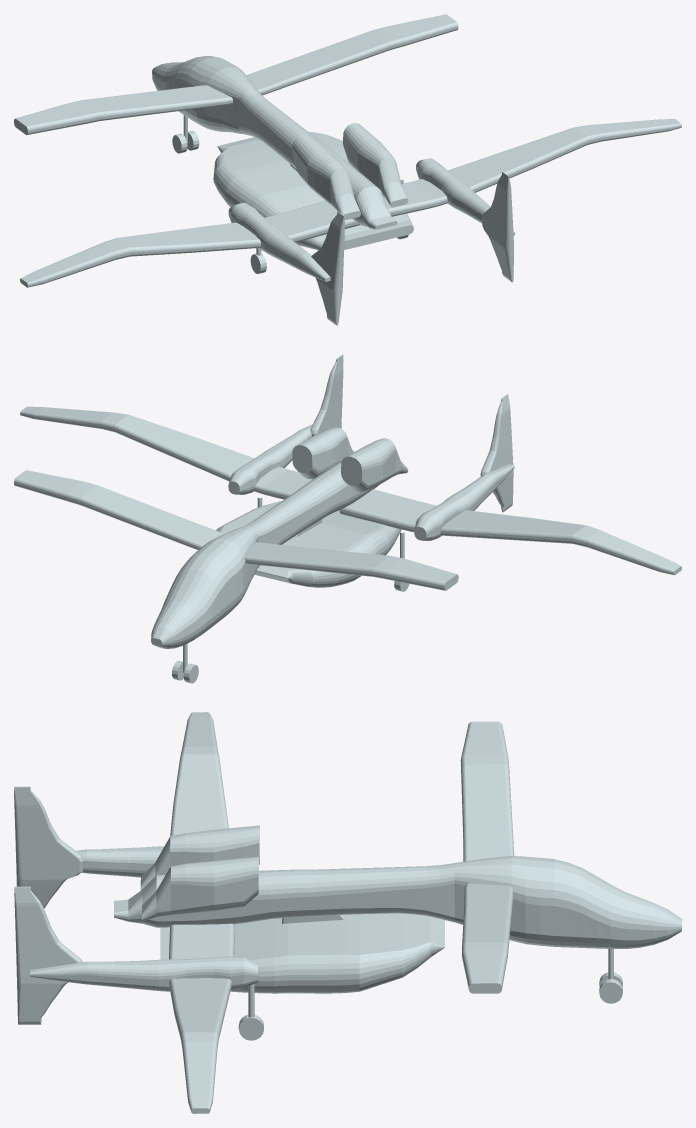
The model's file is PRTS-POD.glb.
3 views of the same model, one above another, from view 1: azimuth 30°, elevation 25°; view 2: azimuth 150°, elevation 25°; view 3: azimuth 270°, elevation 25° (orthographic). The views are drawn at different scales.
Parts seen in each view (by area): view 1: Aircraft visual hull, Landing gear; view 2: Aircraft visual hull, Landing gear; view 3: Aircraft visual hull, Landing gear.
Boxes of the visible parts, x1=… form: Aircraft visual hull: x1=14, y1=14, x2=681, y2=325; Landing gear: x1=172, y1=115, x2=408, y2=273; Aircraft visual hull: x1=14, y1=354, x2=681, y2=648; Landing gear: x1=172, y1=498, x2=409, y2=683; Aircraft visual hull: x1=14, y1=712, x2=681, y2=1113; Landing gear: x1=238, y1=949, x2=622, y2=1040.
Size of the model in its own units: 27.78 by 5.3 by 19.8.
